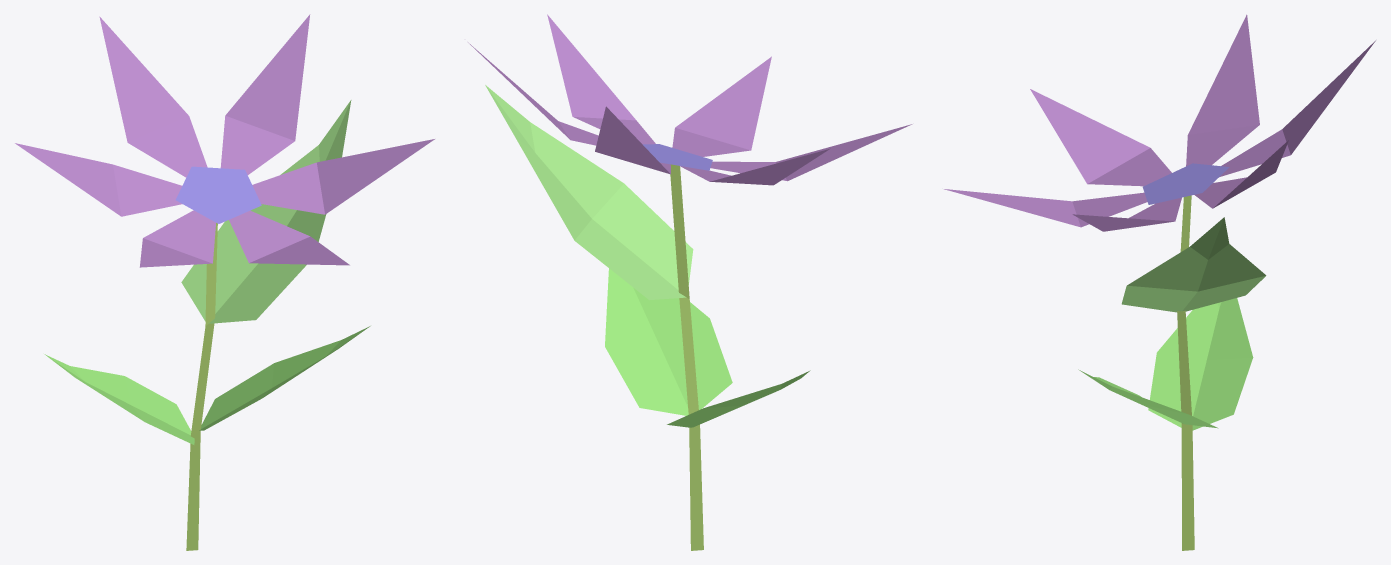
File: Flower_b_OneS_08.fbx
The picture shows the model from 3 angles, left to right: view 1: azimuth 30°, elevation 25°; view 2: azimuth 150°, elevation 25°; view 3: azimuth 270°, elevation 25°; orthographic projection. The views are drawn at different scales.
Parts seen in each view (by area): view 1: Flower_b_OneS_08; view 2: Flower_b_OneS_08; view 3: Flower_b_OneS_08.
Part boxes in pixels (<box>): Flower_b_OneS_08: <box>15,14,434,550</box>; Flower_b_OneS_08: <box>468,14,912,550</box>; Flower_b_OneS_08: <box>944,14,1375,550</box>.
Size of the model in its own units: 36.5 by 48.13 by 37.39.
